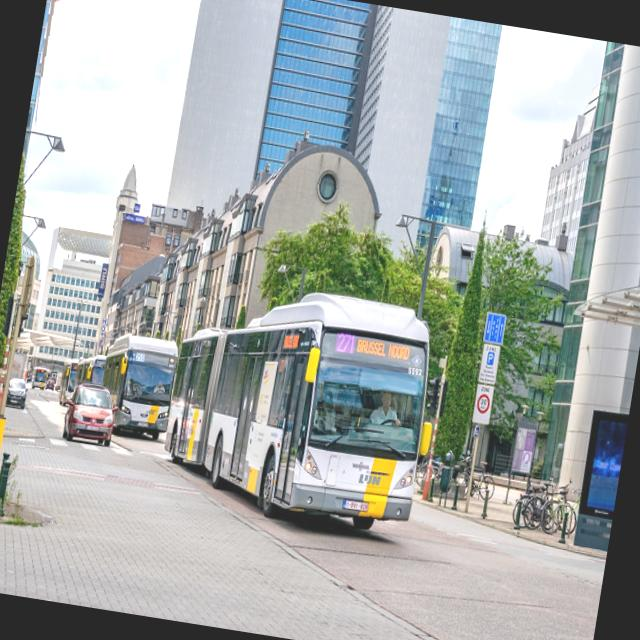bus-number: (334, 334, 356, 356)
